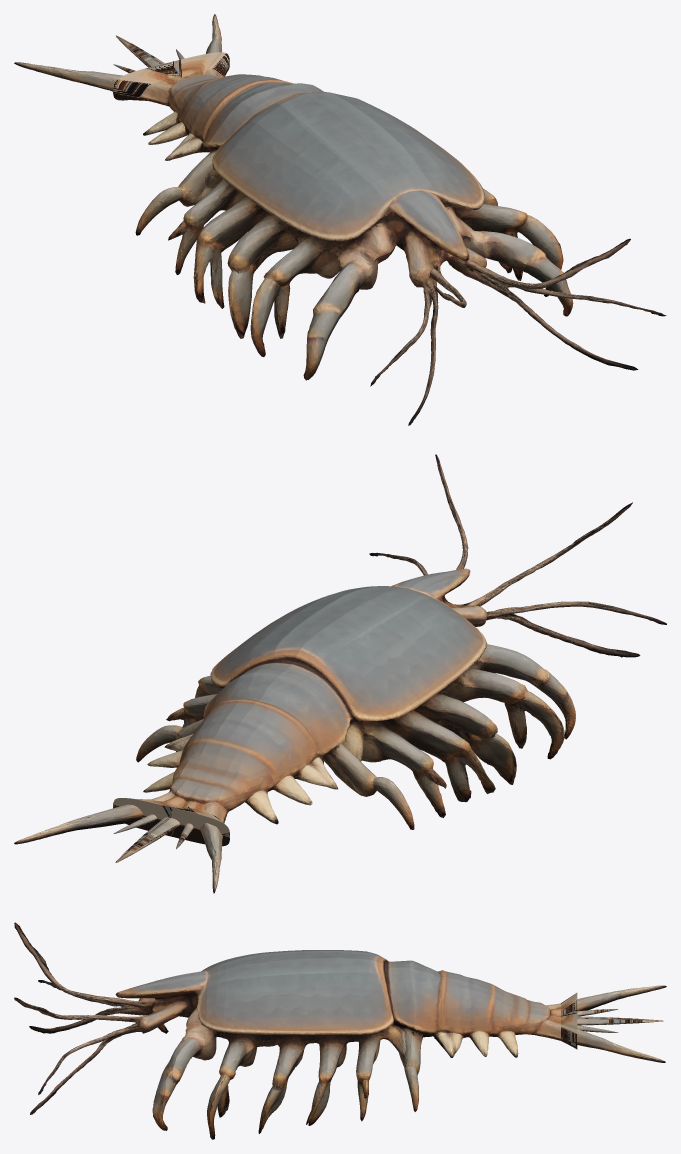
The picture shows the model from 3 angles, top to bottom: view 1: azimuth 30°, elevation 25°; view 2: azimuth 150°, elevation 25°; view 3: azimuth 270°, elevation 25°; orthographic projection. The views are drawn at different scales.
Parts seen in each view (by area): view 1: Belotelson complete artistic tail reconstruction; view 2: Belotelson complete artistic tail reconstruction; view 3: Belotelson complete artistic tail reconstruction.
Boxes of the visible parts, left/top/right/bottom form: Belotelson complete artistic tail reconstruction: left=14, top=14, right=666, bottom=425; Belotelson complete artistic tail reconstruction: left=14, top=454, right=666, bottom=893; Belotelson complete artistic tail reconstruction: left=14, top=922, right=666, bottom=1139.
Size of the model in its own units: 0.4279 by 0.2161 by 0.9963.
Materials: 1 (1 with a texture image).
